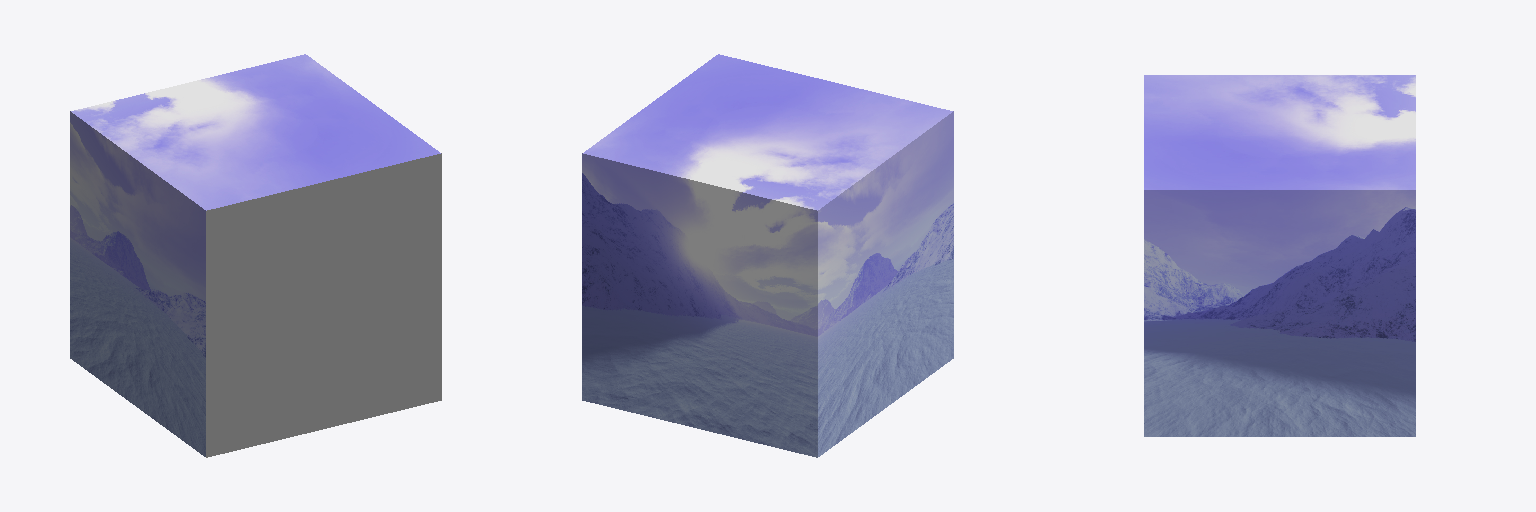
3 renders of one model, left to right at view 1: azimuth 30°, elevation 25°; view 2: azimuth 150°, elevation 25°; view 3: azimuth 270°, elevation 25°, orthographic.
Visible parts, largest first — view 1: Box001; view 2: Box001; view 3: Box001.
Part boxes in pixels (bbox=[...]): Box001: bbox=[70, 54, 441, 457]; Box001: bbox=[582, 54, 953, 457]; Box001: bbox=[1144, 75, 1415, 436].
Size of the model in its own units: 58.87 by 59.1 by 58.81.
6 materials, 5 textured.